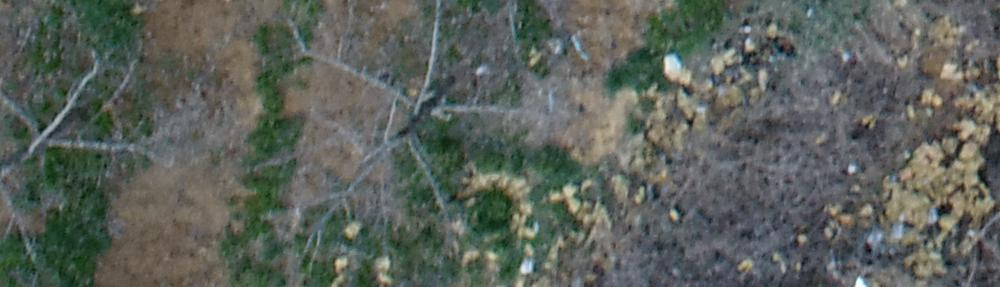apple: (248, 10, 587, 262), (10, 10, 191, 266)
